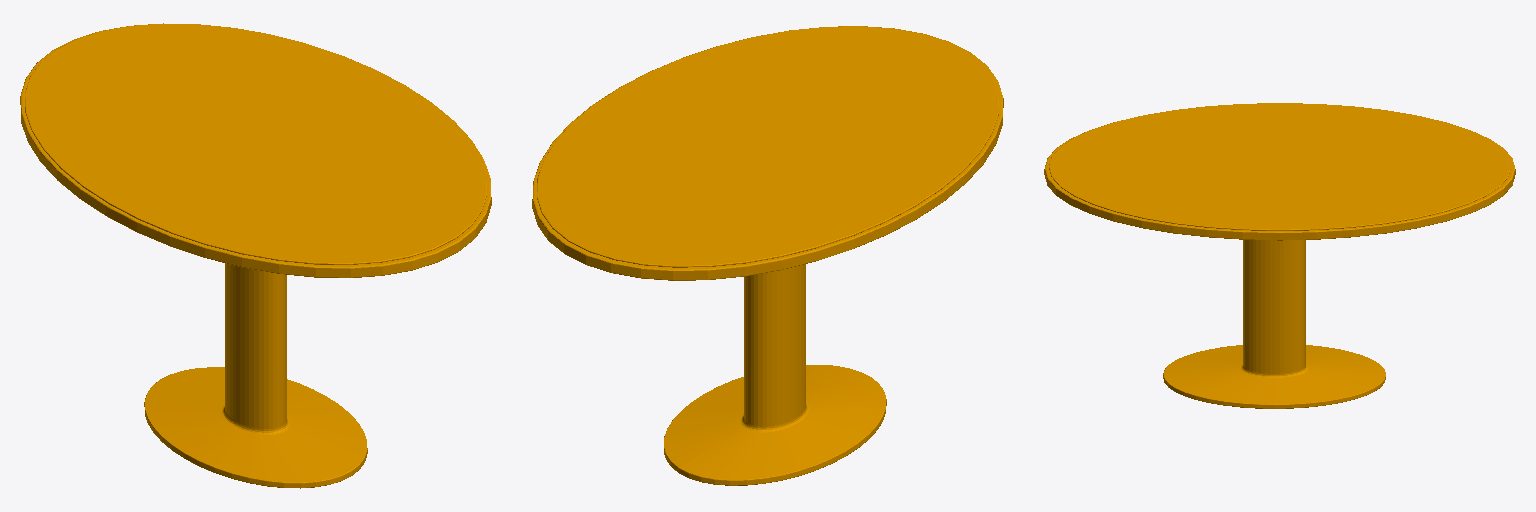
URDF robot description (zero_shot_payload):
<?xml version='1.0' encoding='utf-8'?>
<robot name="zero_shot_payload"><link name="payload"><inertial><mass value="16.64" /><inertia ixx="1.1093333333333335" iyy="0.5968213333333334" izz="1.2624213333333334" ixy="0" ixz="0" iyz="0" /></inertial><visual><geometry><mesh filename="mesh.obj" /></geometry></visual><collision><geometry><mesh filename="mesh.obj" /></geometry></collision></link></robot>

--- Render facts (derived) ---
Views: 3 orthographic renders of the robot side by side, from view 1: azimuth 30°, elevation 25°; view 2: azimuth 150°, elevation 25°; view 3: azimuth 270°, elevation 25°.
Robot: zero_shot_payload — 1 links, 0 joints (none); root link payload; default pose: all joints at 0.
Links seen in each view (by area): view 1: payload; view 2: payload; view 3: payload.
Link boxes in pixels (x1=…): payload: x1=20, y1=23, x2=491, y2=488; payload: x1=532, y1=26, x2=1003, y2=485; payload: x1=1044, y1=103, x2=1515, y2=408.
Bounding box of the posed robot: 0.52 × 0.8 × 0.4 m (x, y, z).
1 mesh visuals loaded from 1 distinct referenced files (1 OBJ).
